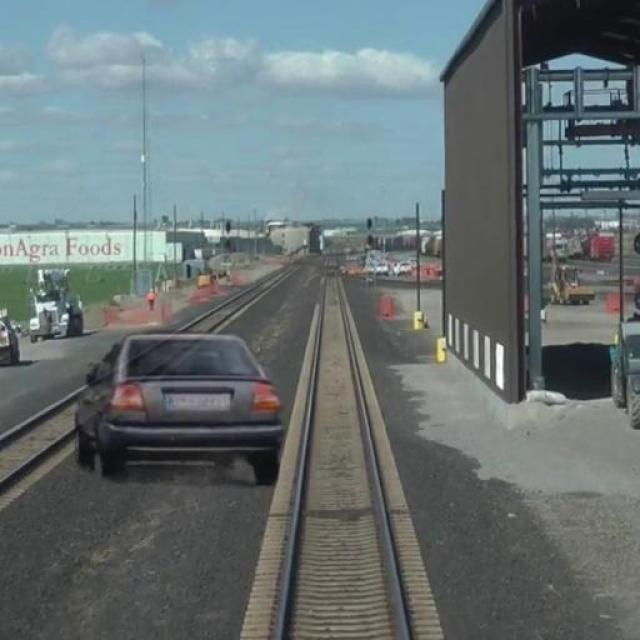vehicle: (73, 331, 291, 484)
